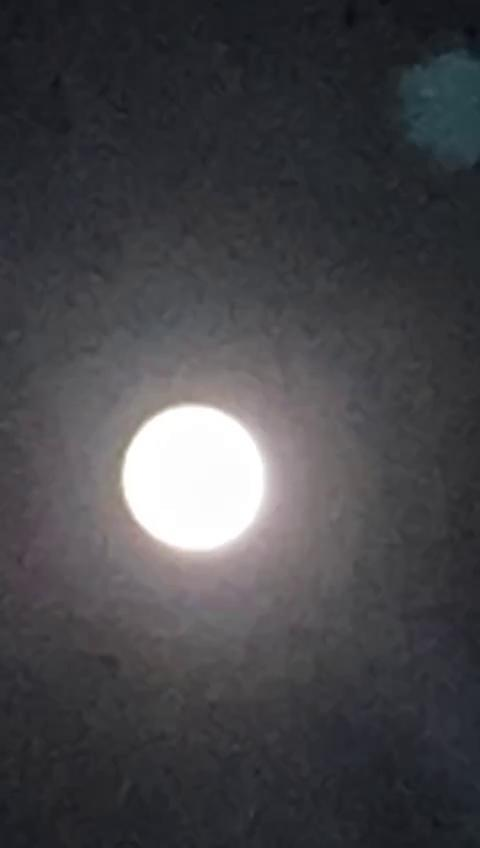moon: (106, 385, 272, 576)
